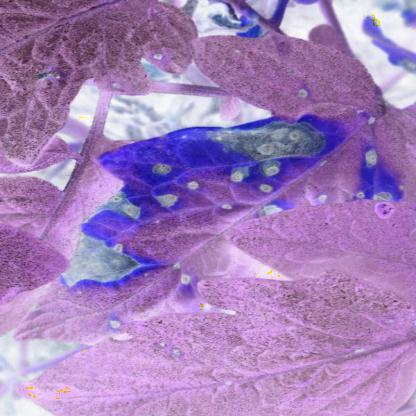tomato early blight leaf: (12, 111, 388, 342)
